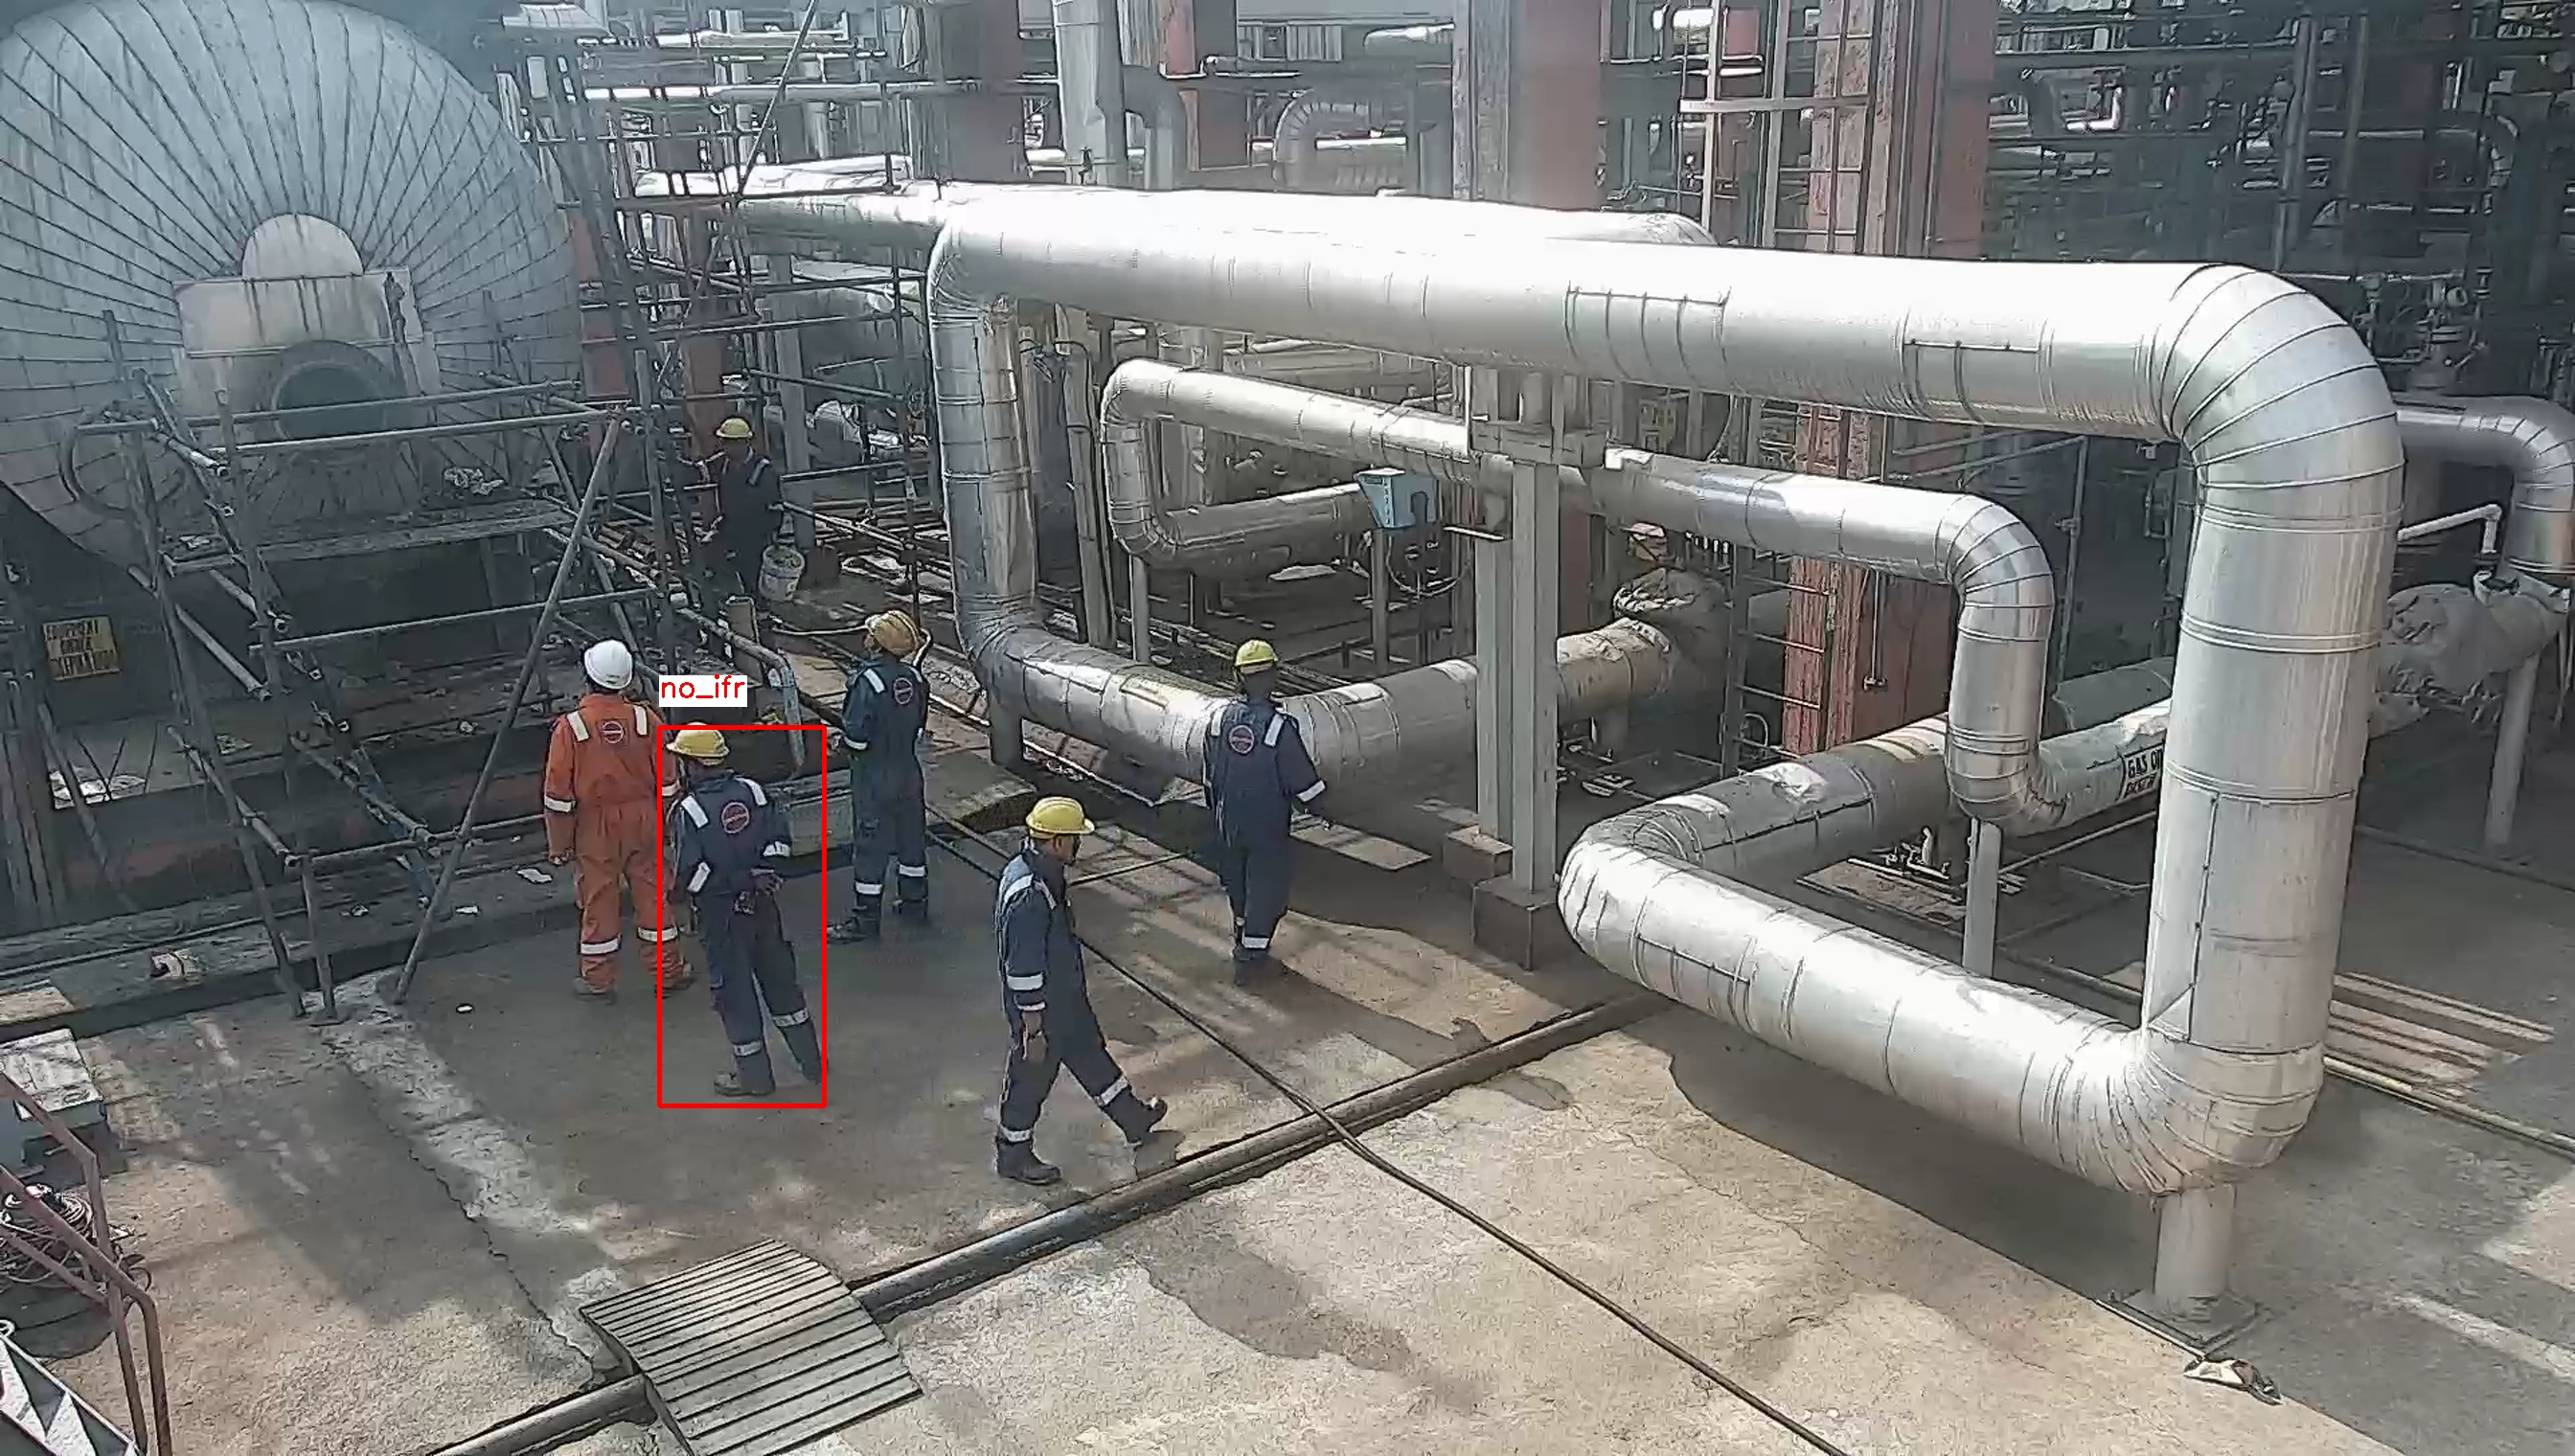Boots: (992, 1132, 1063, 1189), (709, 1061, 780, 1099)
Helmets: (1020, 789, 1100, 846), (575, 635, 638, 695), (860, 610, 923, 658)
IFR_Suit: (990, 847, 1134, 1122), (670, 778, 815, 1047), (546, 704, 674, 971), (1197, 699, 1298, 961), (835, 656, 939, 902)
